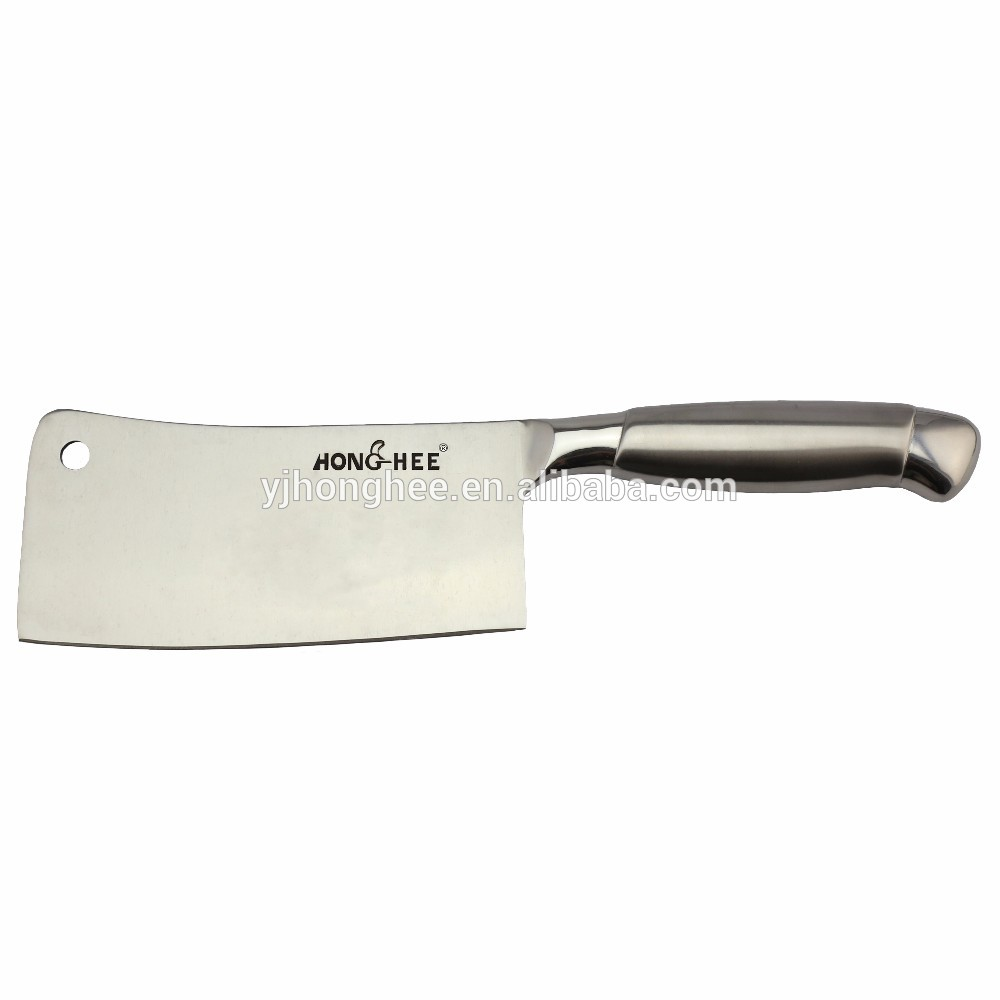knief: (21, 359, 985, 644)
